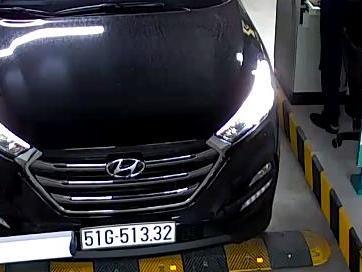number: (79, 221, 175, 247)
